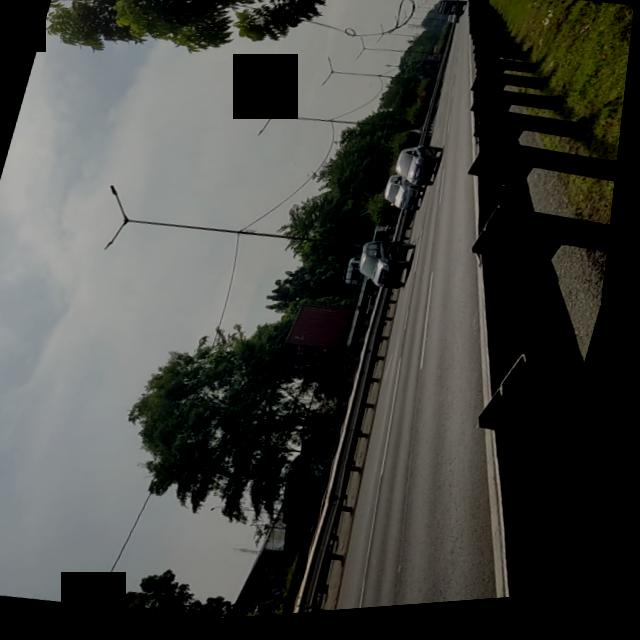Golongan I: (349, 231, 434, 304), (391, 142, 459, 199)
